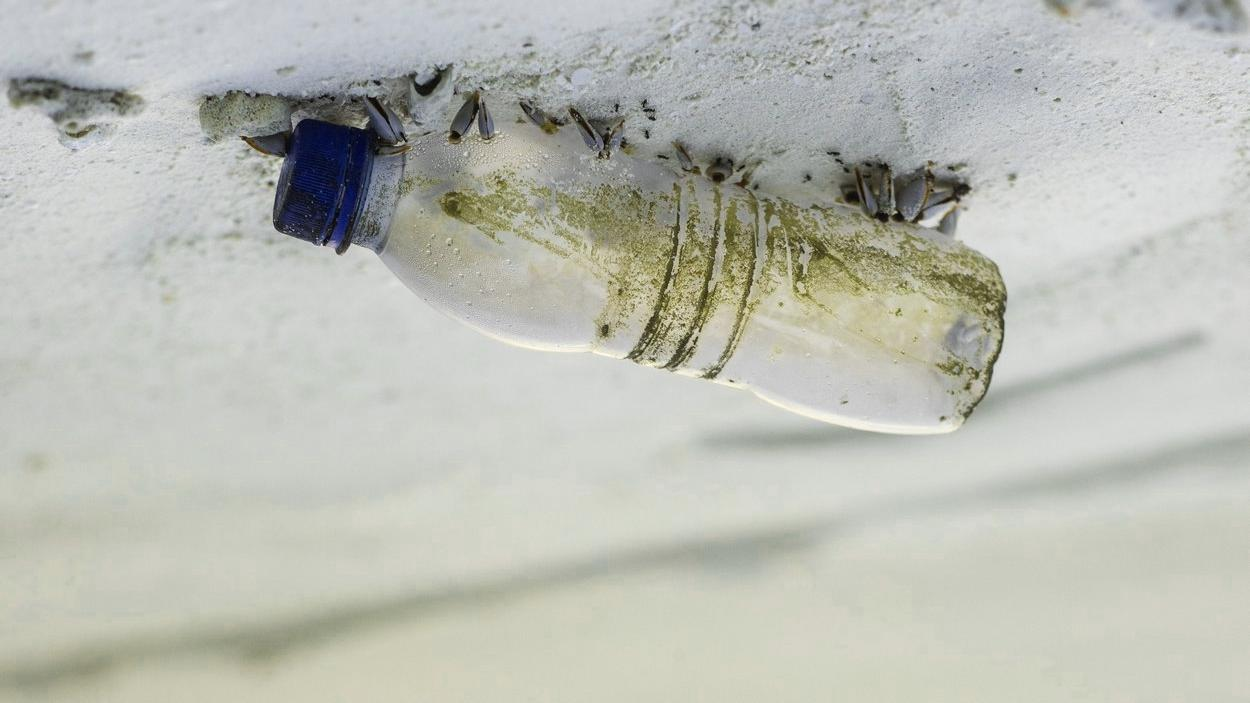Plastic: (264, 114, 1015, 442)
